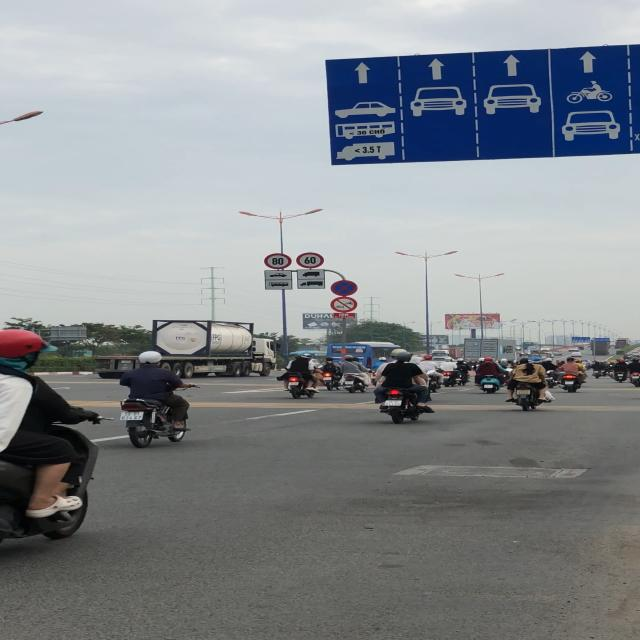Bien bao cam dung xe va do xe: (330, 279, 359, 297)
Bien bao toc do toi da cho phep: (295, 251, 326, 270), (263, 251, 293, 270)
